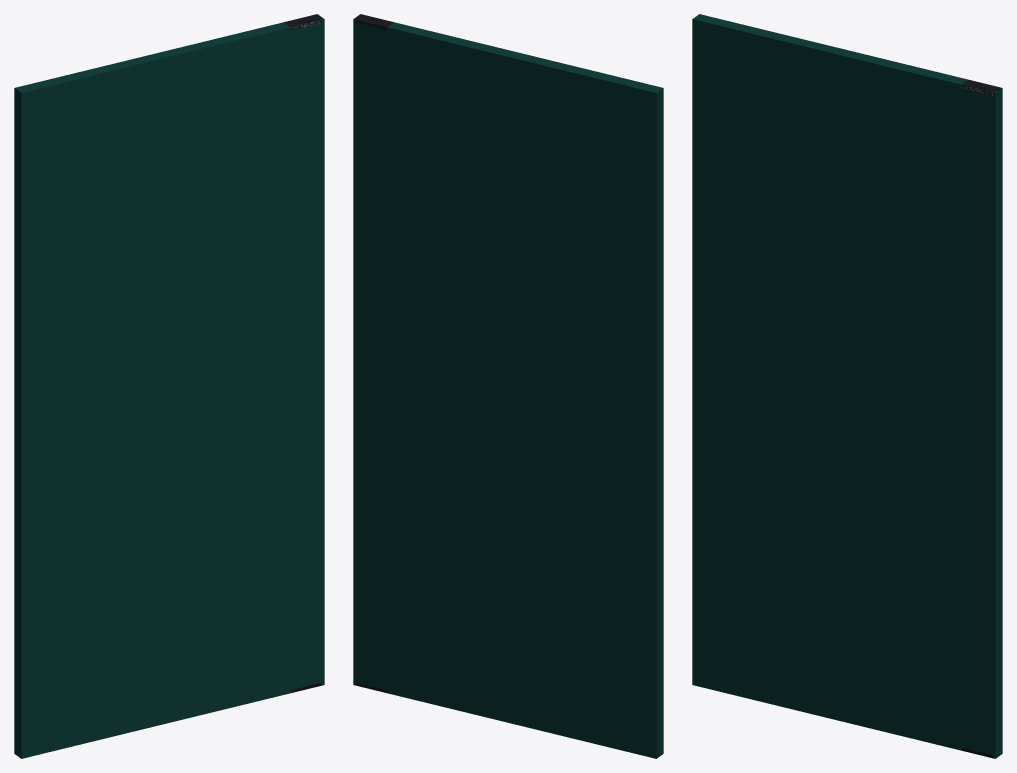
File: original-7.obj
3 renders of one model, left to right at view 1: azimuth 30°, elevation 25°; view 2: azimuth 150°, elevation 25°; view 3: azimuth 330°, elevation 25°, orthographic.
Visible parts, largest first — view 1: mesh5/mesh5-geometry#mesh5-geometry; view 2: mesh5/mesh5-geometry#mesh5-geometry; view 3: mesh5/mesh5-geometry#mesh5-geometry.
Part boxes in pixels (x1,y1,x2,y2): mesh5/mesh5-geometry#mesh5-geometry: (14, 14, 324, 758); mesh5/mesh5-geometry#mesh5-geometry: (353, 14, 663, 758); mesh5/mesh5-geometry#mesh5-geometry: (692, 14, 1002, 758).
Bounding box in the file's own units: 0.4405 × 0.925 × 0.0176.
Materials: 3 (1 with a texture image).
